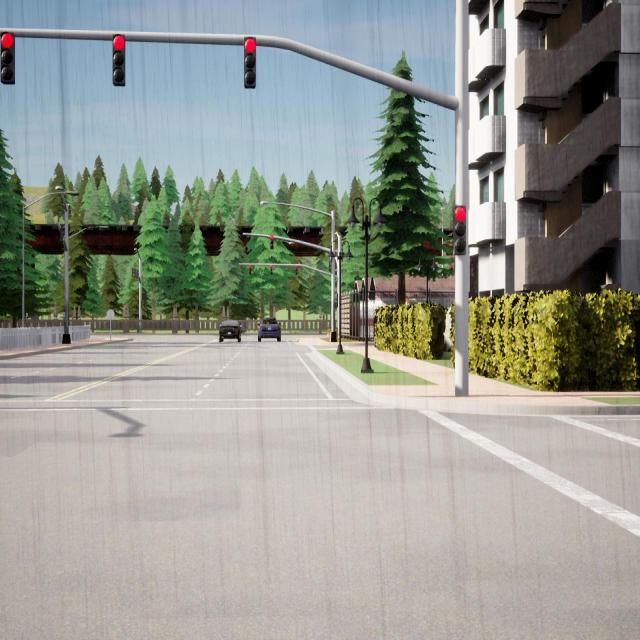Traffic_Signs: (107, 310, 114, 318)
Vehicle: (258, 318, 280, 342), (219, 320, 241, 343)
traffic_light: (1, 32, 15, 84), (112, 34, 126, 86), (453, 205, 466, 255), (244, 36, 256, 88), (60, 226, 66, 242), (270, 235, 274, 249), (270, 265, 273, 275), (336, 293, 338, 307), (249, 265, 251, 275), (296, 265, 298, 275), (132, 268, 134, 277), (136, 270, 138, 279), (141, 300, 143, 308), (134, 269, 136, 277)
